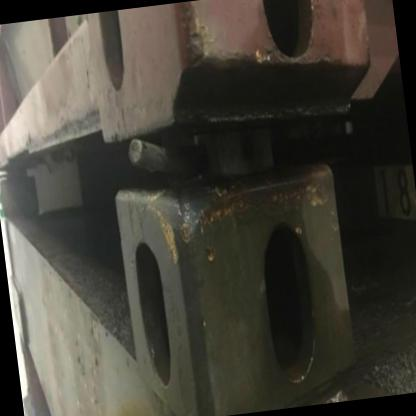CornerCasting: (98, 142, 366, 412), (71, 0, 372, 144)
